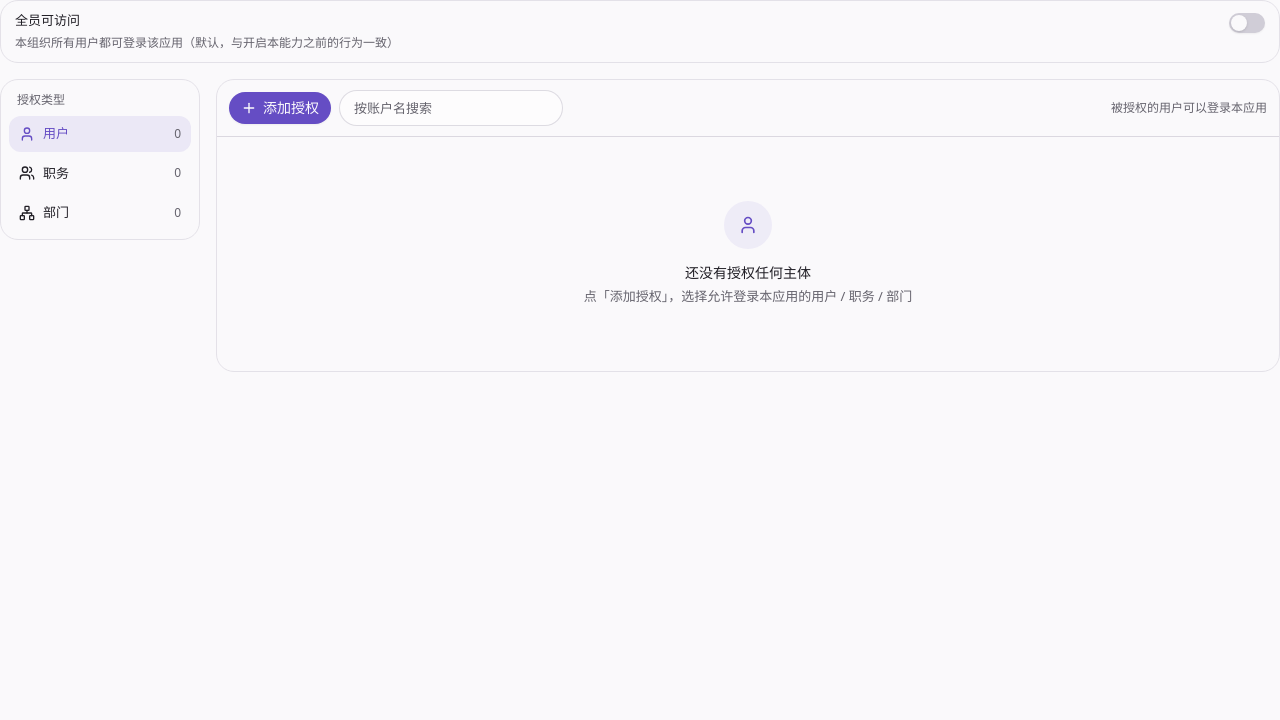
ApplicationAccessEditor（授权类型 / 名单 左右布局） › 部门是树：先出顶层，展开节点时才取下一层（按层懒加载）
Click the button "添加授权" at [280, 108], box [229,92,331,124]
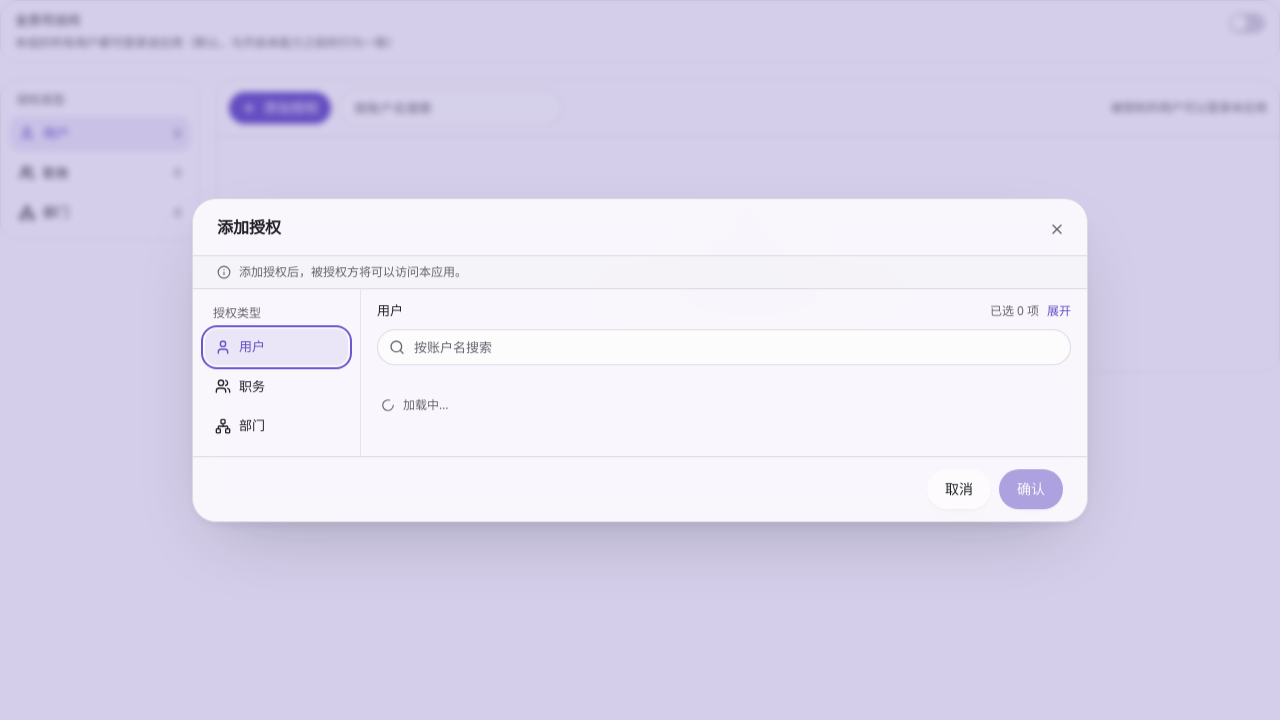
Click the button "部门" at [276, 426], box [205,408,348,444]
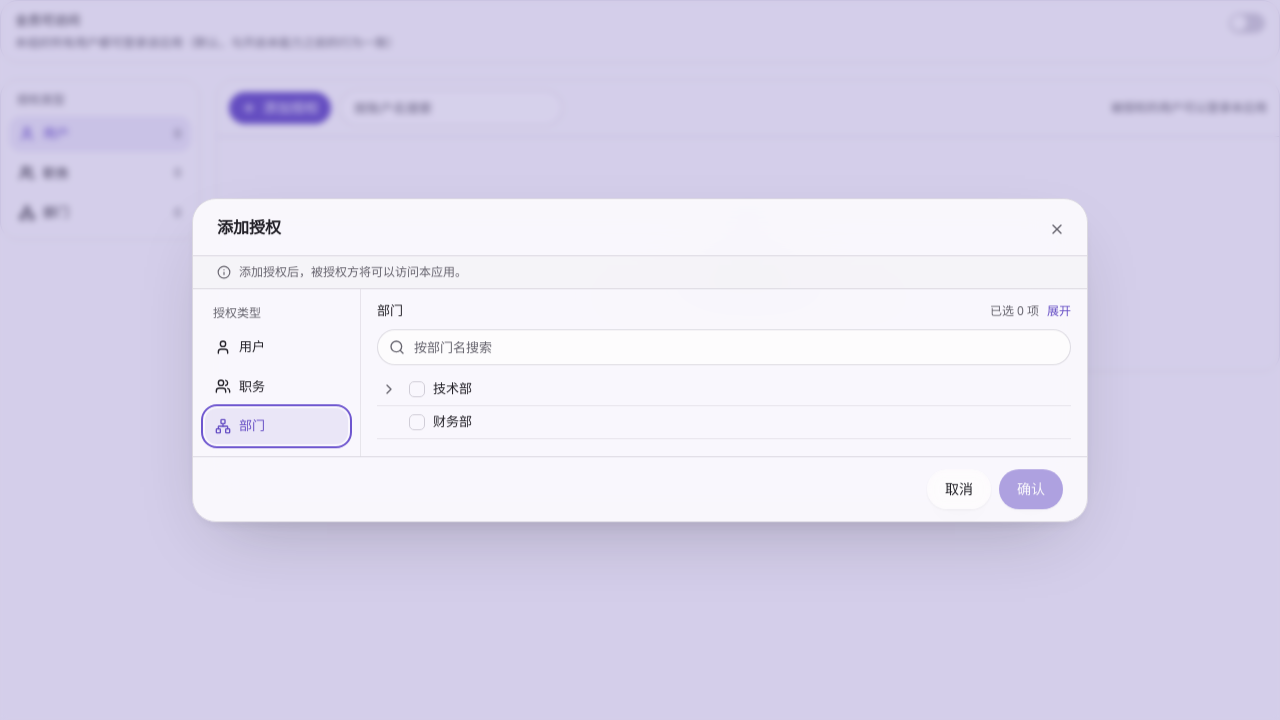
Expected: the text "前端组" is not shown
Expected: the text "技术部" is shown, [433,379,472,397]
Click the button named "展开 技术部" at [389, 389], box [377,377,401,401]
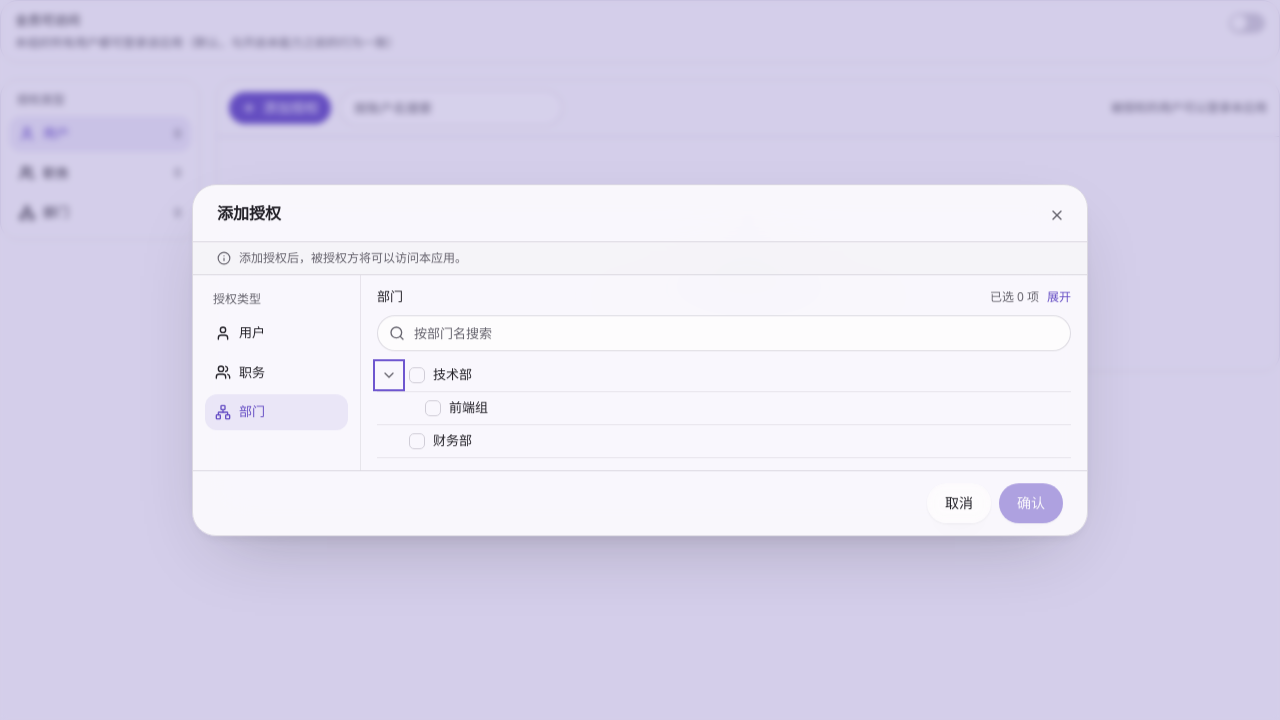
Expected: the text "前端组" is shown, [449,398,488,416]
// 已授权的节点在树里保留（不破坏导航）但不可再勾选
Click the checkbox named "选择 技术部" at [417, 375], box [409,367,425,383]
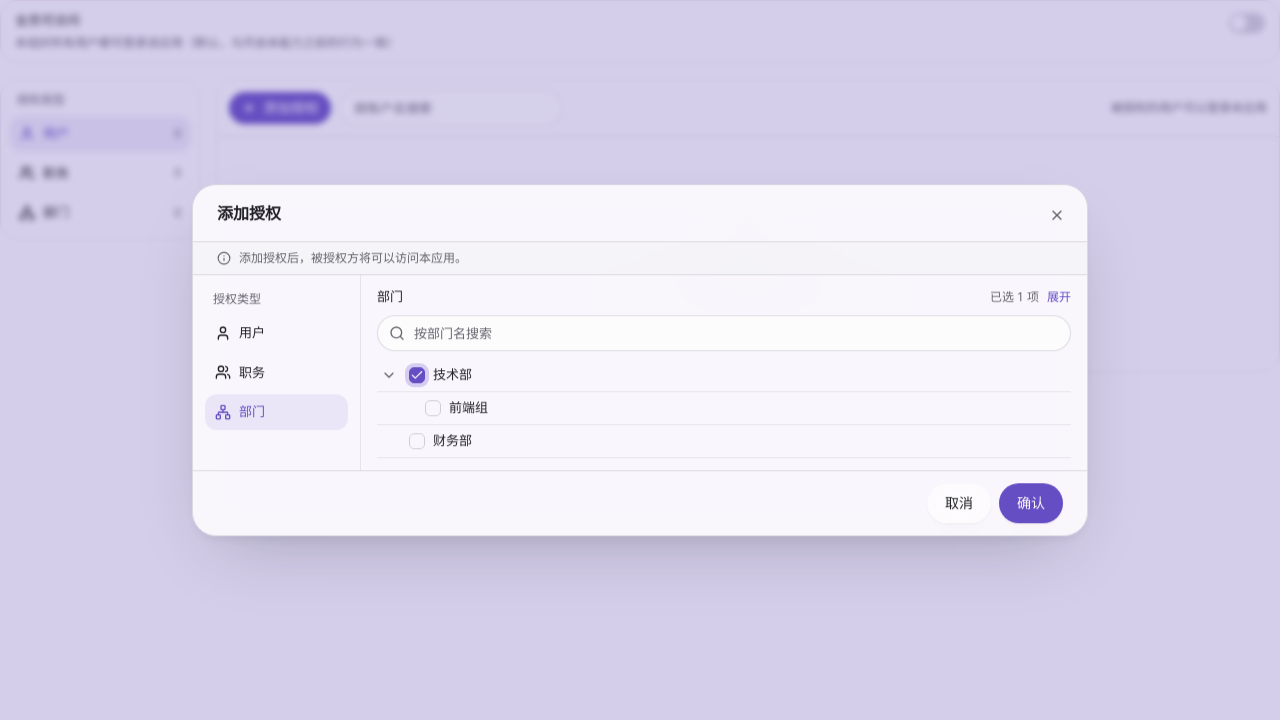
Expected: the text "已选 1 项" is shown, [990,289,1039,305]
